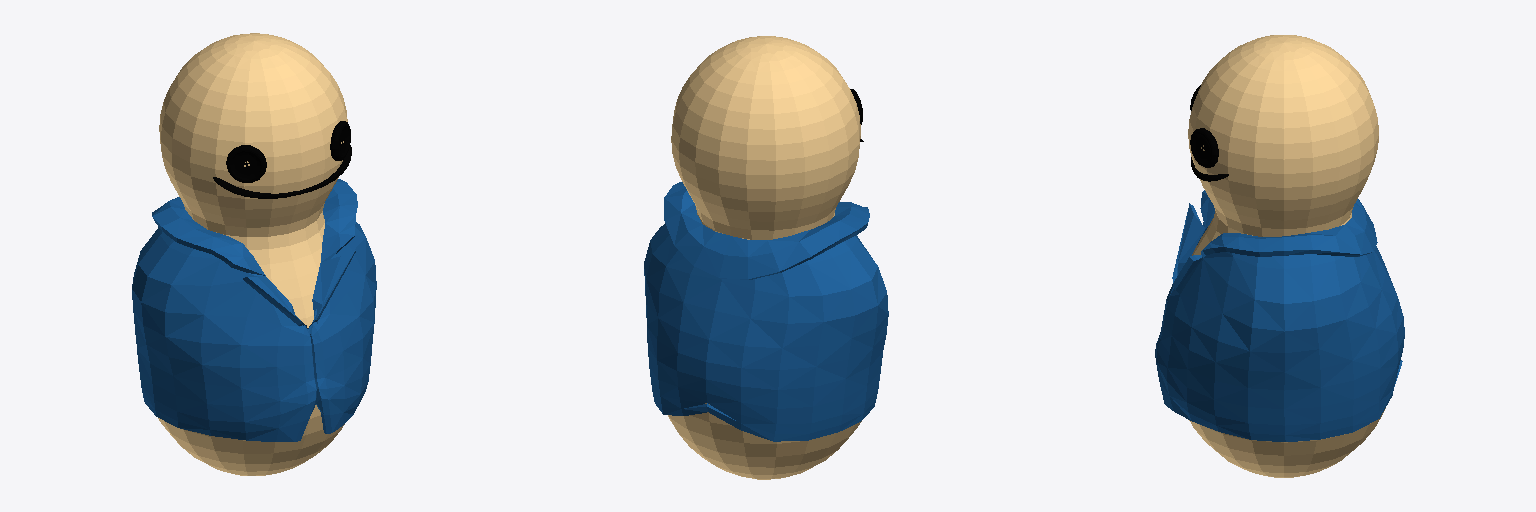
The model's file is suit-blue.obj.
The picture shows the model from 3 angles: view 1: azimuth 30°, elevation 25°; view 2: azimuth 150°, elevation 25°; view 3: azimuth 270°, elevation 25°; orthographic projection.
Visible parts, largest first — view 1: suit_Sphere.001, agent.001_Sphere.000; view 2: suit_Sphere.001, agent.001_Sphere.000; view 3: suit_Sphere.001, agent.001_Sphere.000.
Boxes of the visible parts, <box> form: suit_Sphere.001: <box>132,179,376,441</box>; agent.001_Sphere.000: <box>158,33,351,475</box>; suit_Sphere.001: <box>644,182,888,441</box>; agent.001_Sphere.000: <box>668,36,863,479</box>; suit_Sphere.001: <box>1155,190,1404,441</box>; agent.001_Sphere.000: <box>1188,35,1385,477</box>.
Size of the model in its own units: 1.07 by 1.95 by 1.04.